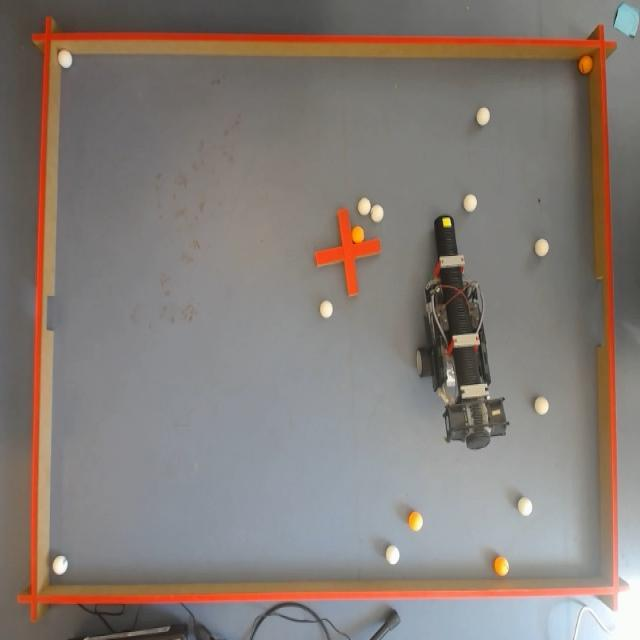orange: (494, 554, 511, 575), (353, 224, 364, 246), (410, 512, 422, 532), (580, 56, 592, 74)
robot: (415, 215, 497, 440)
white: (536, 236, 550, 256), (58, 50, 72, 70), (536, 398, 551, 416), (54, 555, 68, 574), (518, 498, 532, 517), (319, 298, 332, 318), (476, 108, 489, 128), (388, 545, 400, 566), (464, 194, 478, 212), (370, 203, 383, 222), (359, 196, 372, 215)
